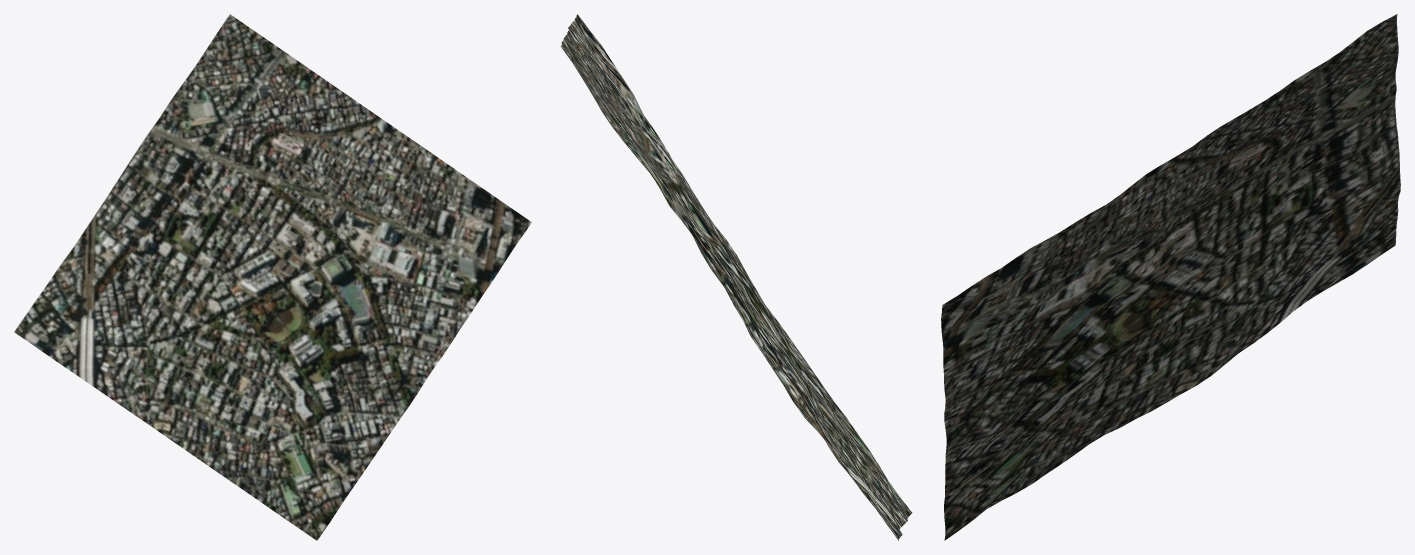
The picture shows the model from 3 angles, left to right: view 1: azimuth 30°, elevation 25°; view 2: azimuth 150°, elevation 25°; view 3: azimuth 270°, elevation 25°; orthographic projection. The views are drawn at different scales.
Bounding box in the file's own units: 1081 × 1131 × 818.
1 material, 1 textured.
